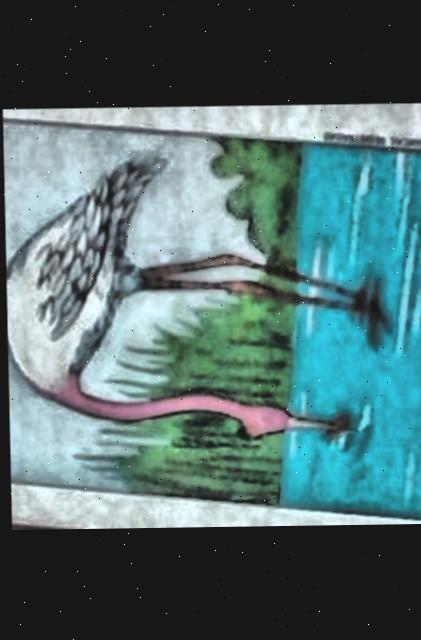El Garza: (2, 121, 421, 520)
